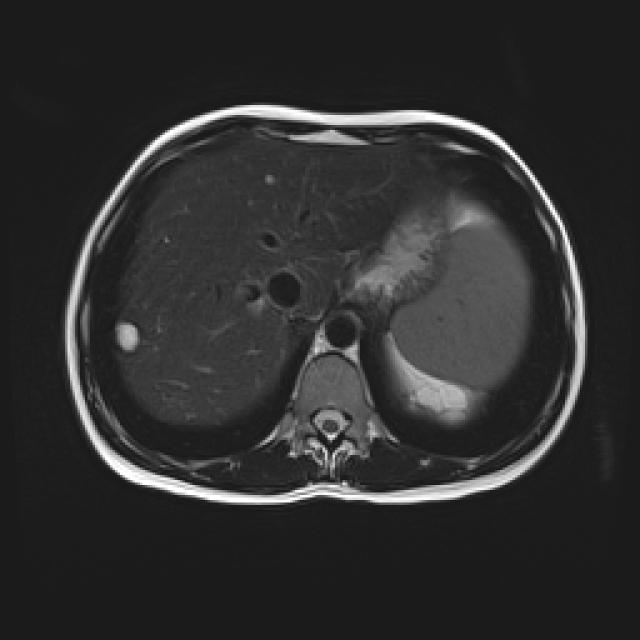sol: (404, 374, 471, 425)
